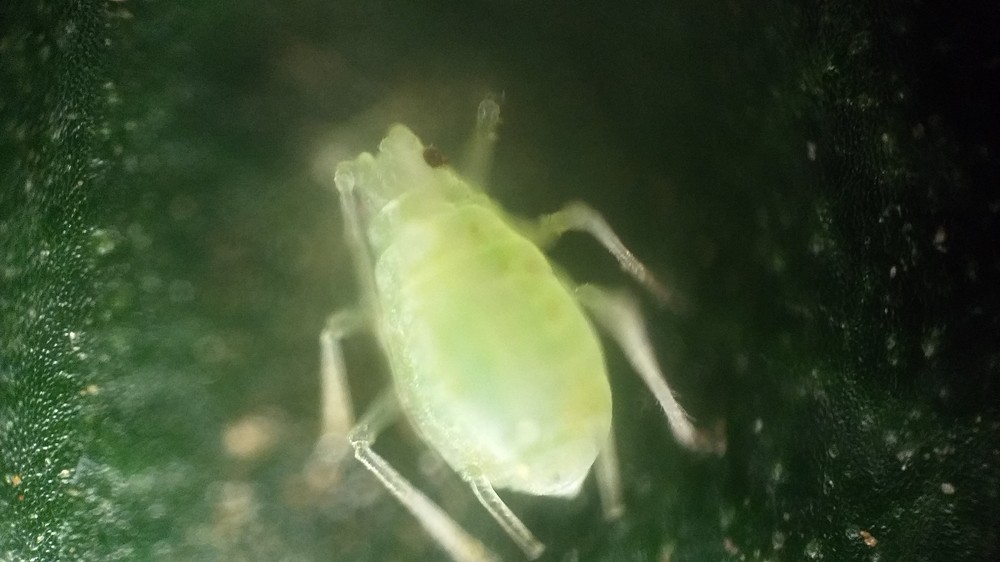Pulgon: (256, 83, 737, 558)
